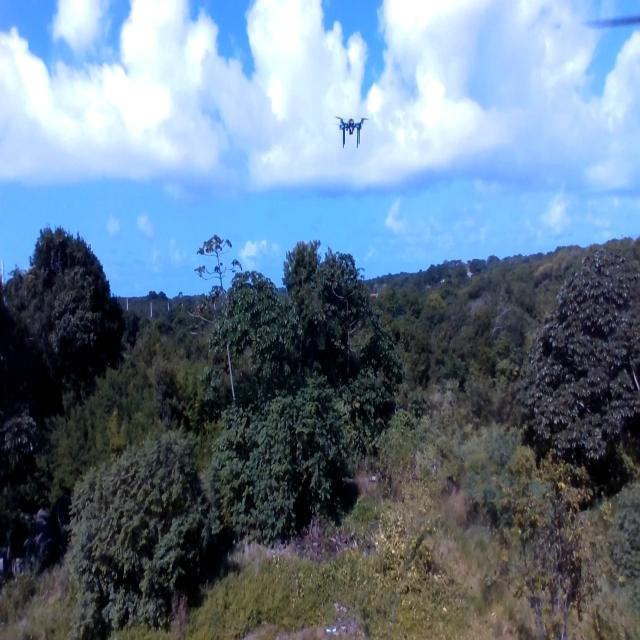-uav-: (325, 102, 376, 159)
